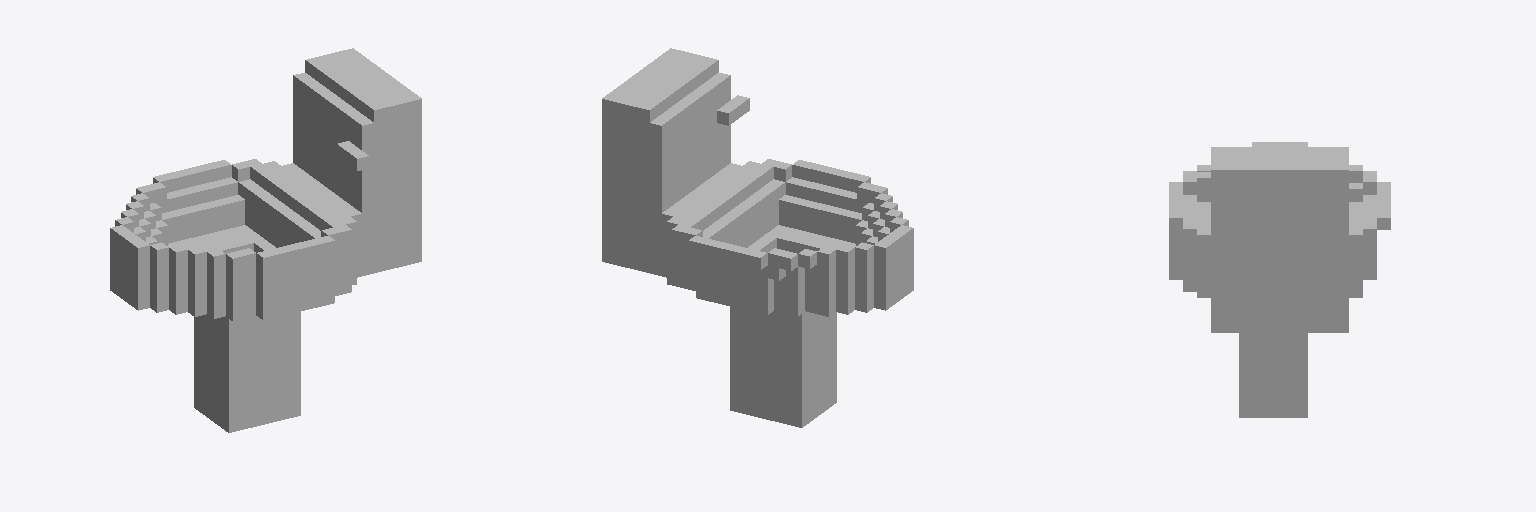
The model's file is toilet.obj.
3 views of the same model, side by side, from view 1: azimuth 30°, elevation 25°; view 2: azimuth 150°, elevation 25°; view 3: azimuth 270°, elevation 25° (orthographic).
Size of the model in its own units: 22 by 24 by 16.